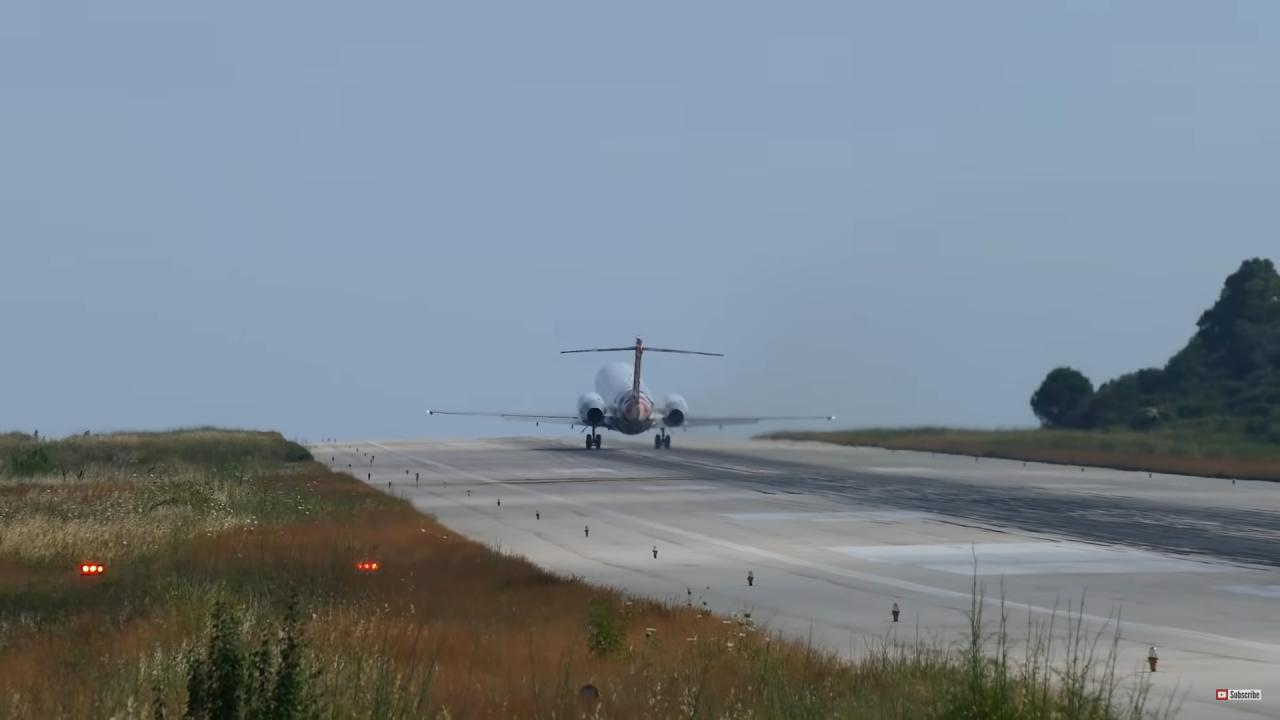Airplane: (413, 328, 854, 463)
